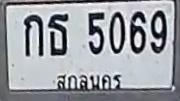0: (109, 11, 125, 54)
5: (88, 12, 104, 54)
6: (130, 11, 145, 53)
9: (150, 10, 166, 54)
A01: (23, 14, 43, 56)
A24: (48, 13, 68, 55)
SNK: (53, 71, 124, 90)
